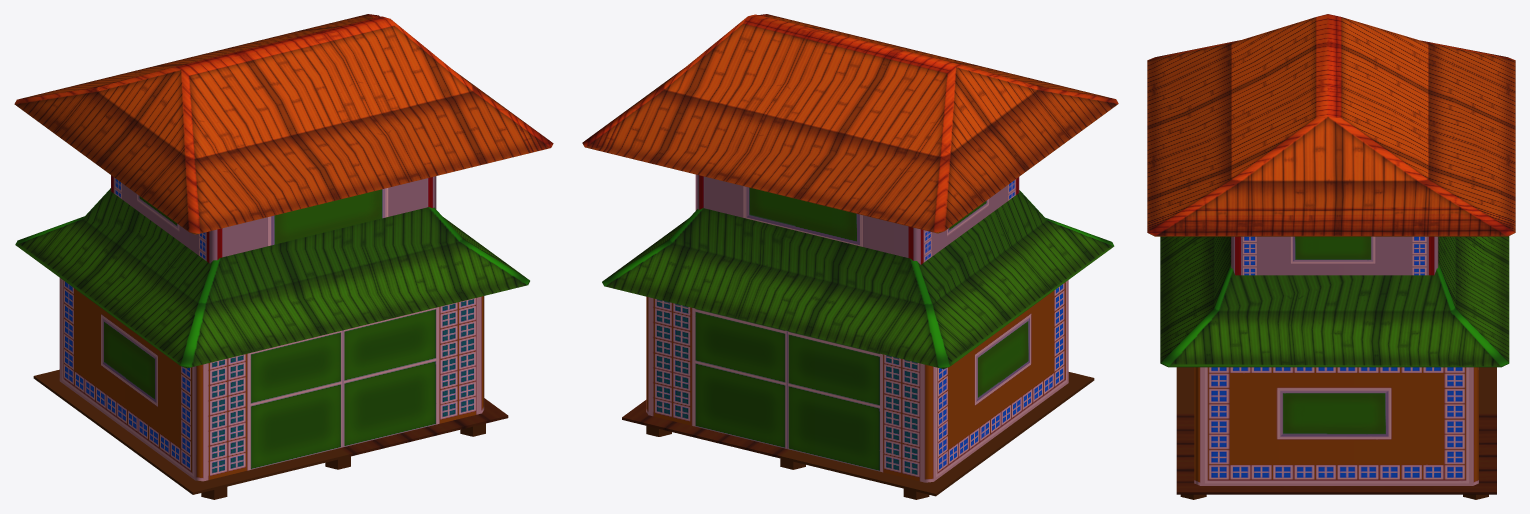
The model's file is house.fbx.
3 renders of one model, left to right at view 1: azimuth 30°, elevation 25°; view 2: azimuth 150°, elevation 25°; view 3: azimuth 270°, elevation 25°, orthographic.
Visible parts, largest first — view 1: house; view 2: house; view 3: house.
Boxes of the visible parts, x1=… form: house: x1=14, y1=14, x2=553, y2=499; house: x1=582, y1=14, x2=1118, y2=499; house: x1=1147, y1=14, x2=1515, y2=499.
Size of the model in its own units: 12.46 by 11.92 by 10.78.
